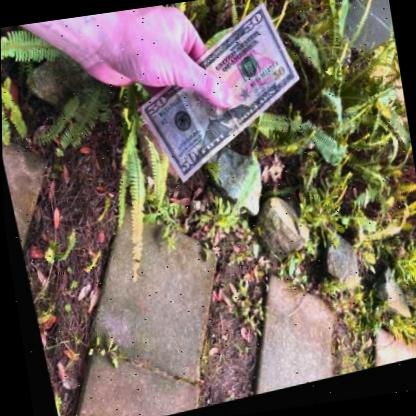fifty-front: (136, 9, 298, 187)
